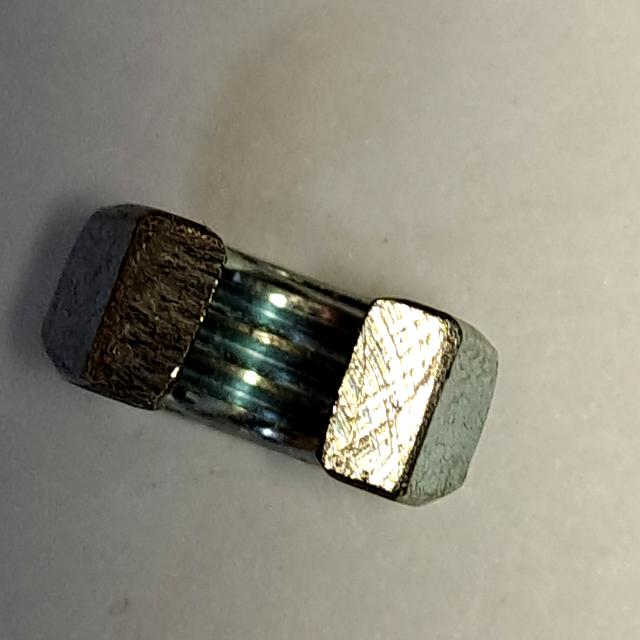Side-Fracture: (25, 173, 536, 536)
